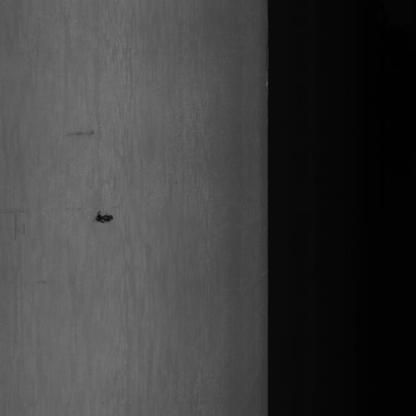inclusion: (90, 204, 118, 232)
silk_spot: (95, 10, 136, 154)
